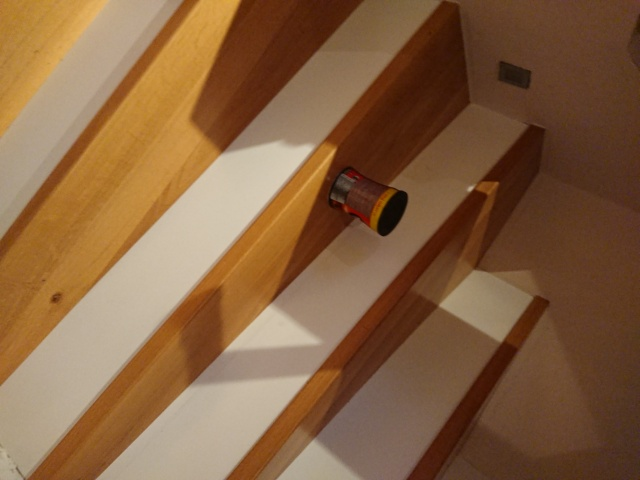Nescafe Classic 225g: (326, 164, 411, 238)
